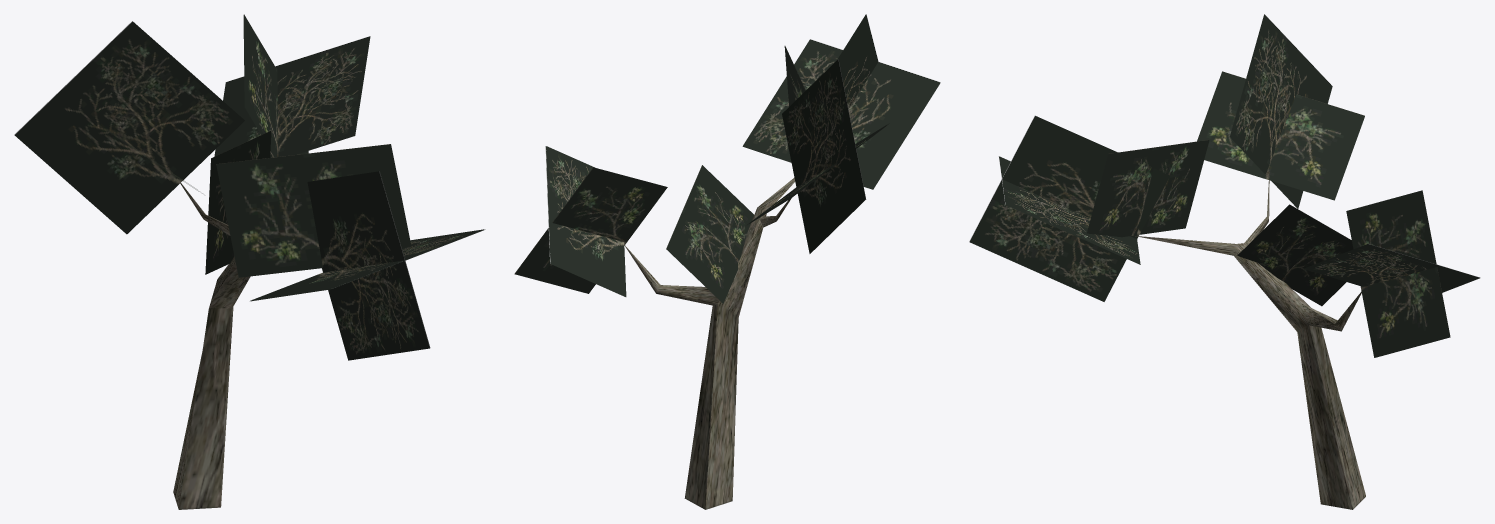
Rendered from mtns_shrb_gnarled_a1_l2.fbx.
The picture shows the model from 3 angles, left to right: view 1: azimuth 30°, elevation 25°; view 2: azimuth 150°, elevation 25°; view 3: azimuth 270°, elevation 25°; orthographic projection. The views are drawn at different scales.
Visible parts, largest first — view 1: mesh_node; view 2: mesh_node; view 3: mesh_node.
Part boxes in pixels (x1,y1,x2,y2): mesh_node: [14, 14, 485, 509]; mesh_node: [514, 14, 940, 509]; mesh_node: [969, 14, 1480, 509].
Bounding box in the file's own units: 3.55 × 4.87 × 5.11.
